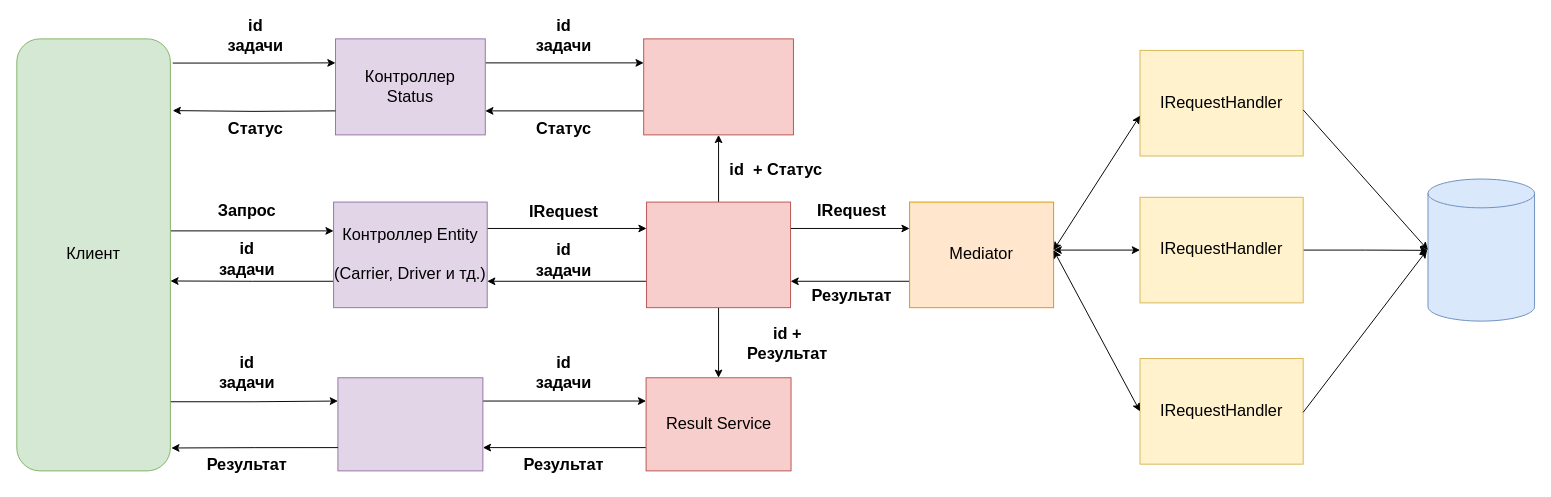
Some shapes in this 1551 by 497 pixel diagram are drawn without their labels. Each missing label, with the box of its shape:
Queue BackgroundService: (646, 201, 791, 308)
Request Status Service: (643, 38, 793, 135)
SQL: (1427, 178, 1535, 321)
Контроллер Result: (337, 377, 483, 471)
